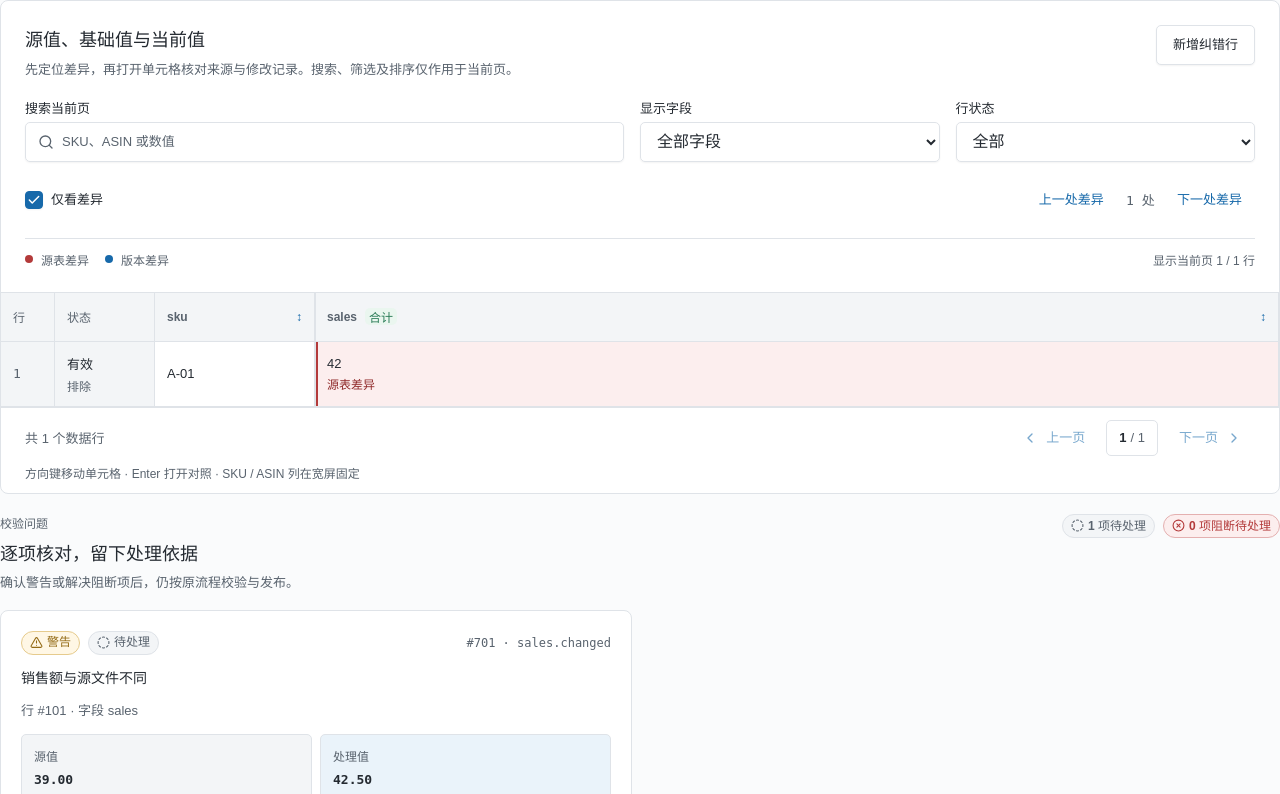
it: ReviewDataTable › rejects a blank integer instead of silently converting it to zero
Click the button with aria-label "sales，当前值 42".
click(351, 385)  # box [315, 342, 1278, 406]
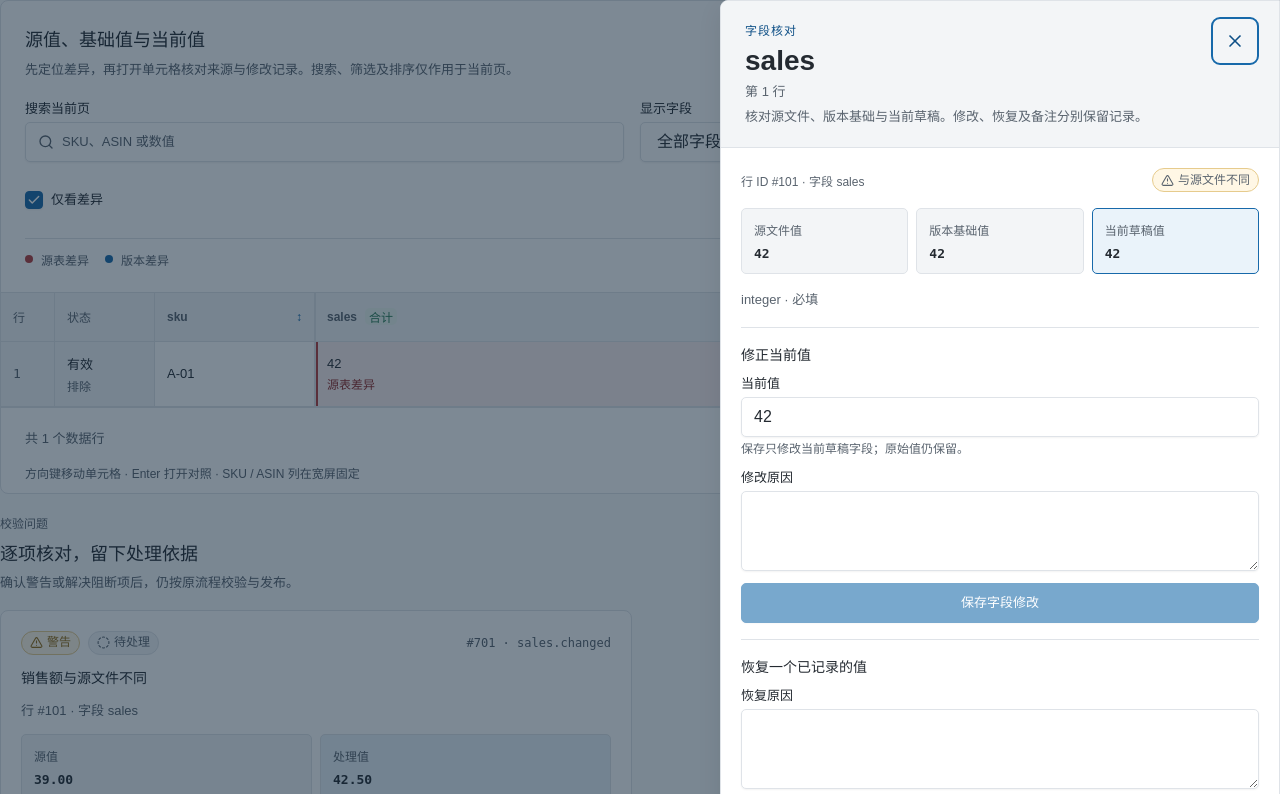
Clear the field labelled "当前值" at (1000, 417), box [741, 397, 1259, 437]
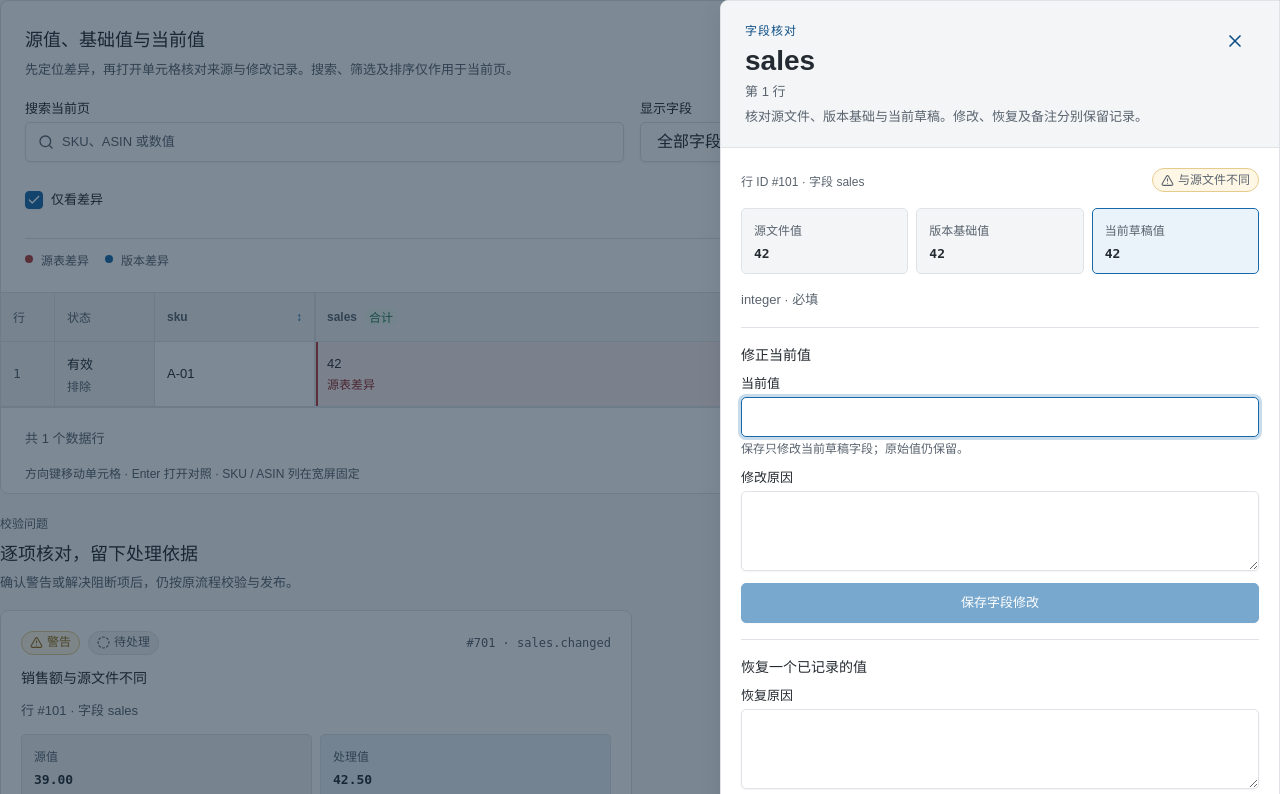
Type "检查空白整数" into the text box labelled "修改原因".
click(1000, 531); type("检查空白整数")  # box [741, 491, 1259, 571]
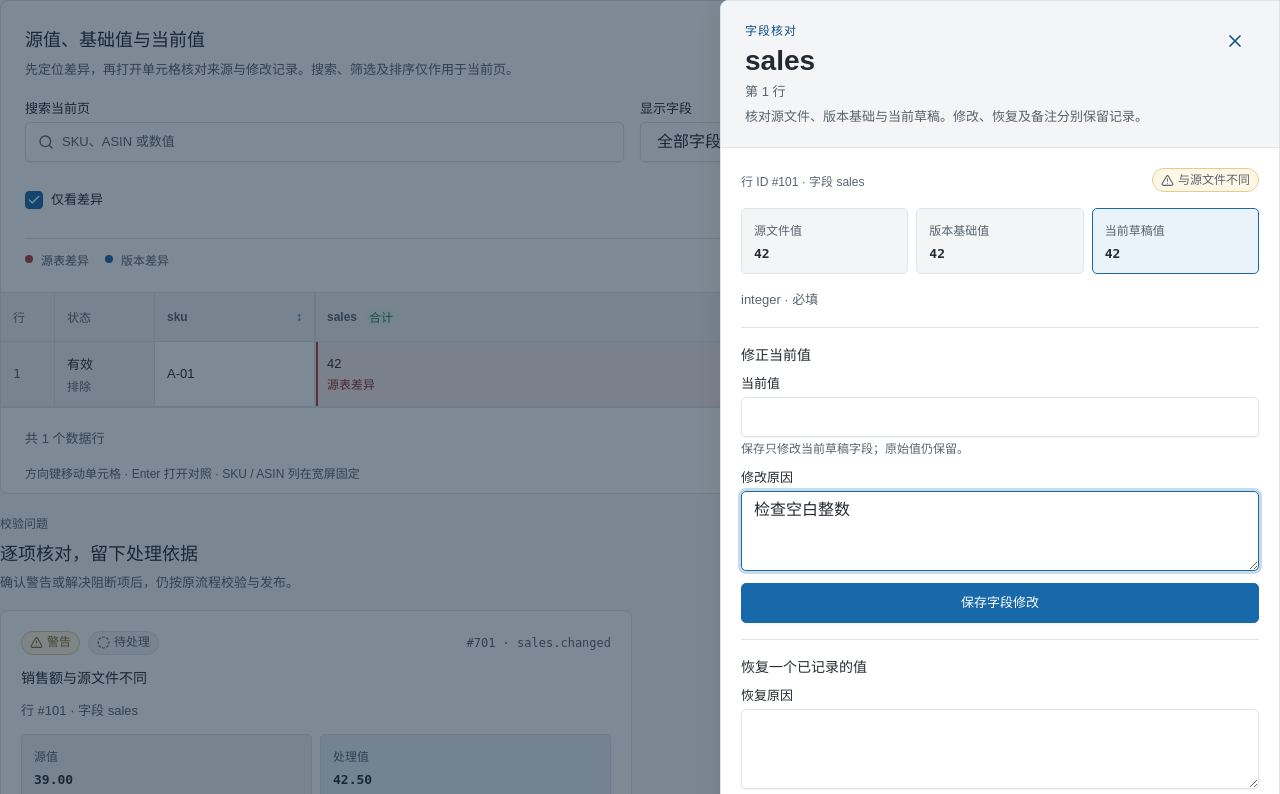
Click the button "保存字段修改".
click(1000, 603)  # box [741, 583, 1259, 623]
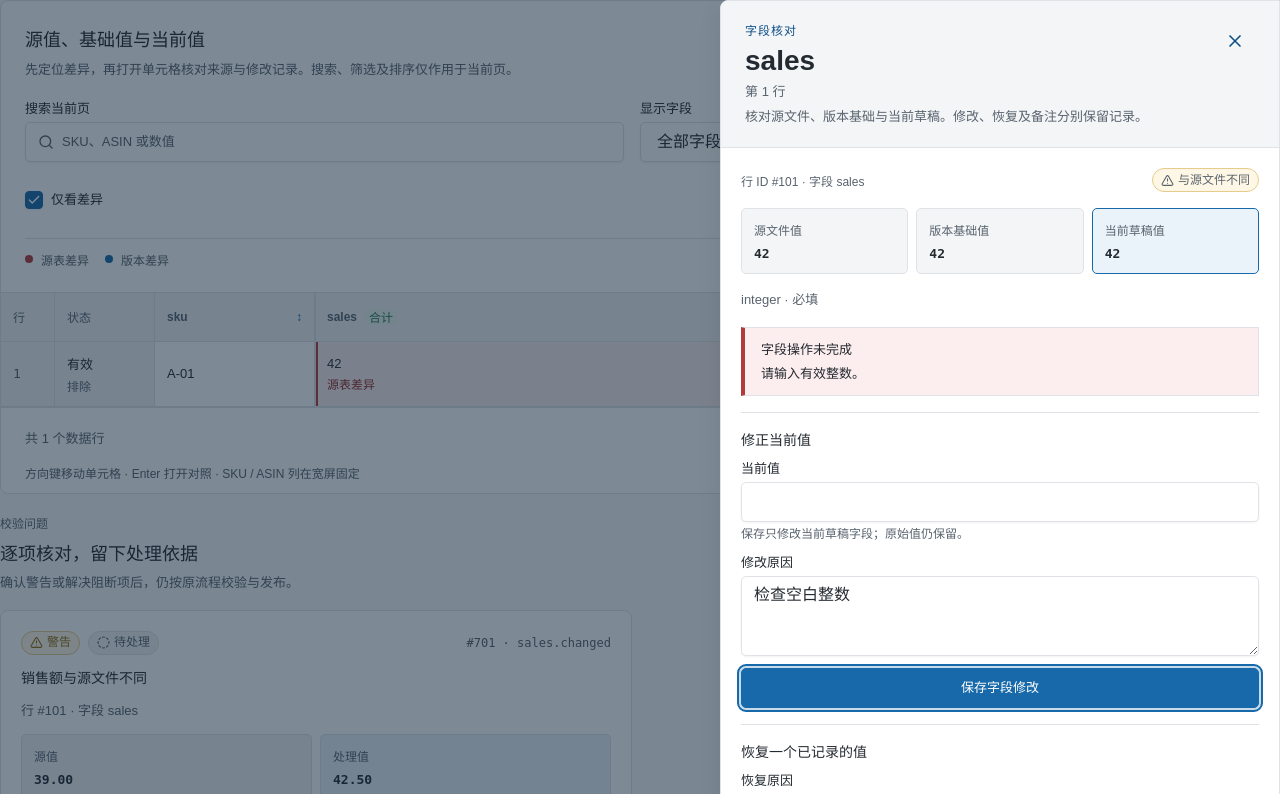
Expected: the message shows "请输入有效整数。", [761, 366, 865, 380]
